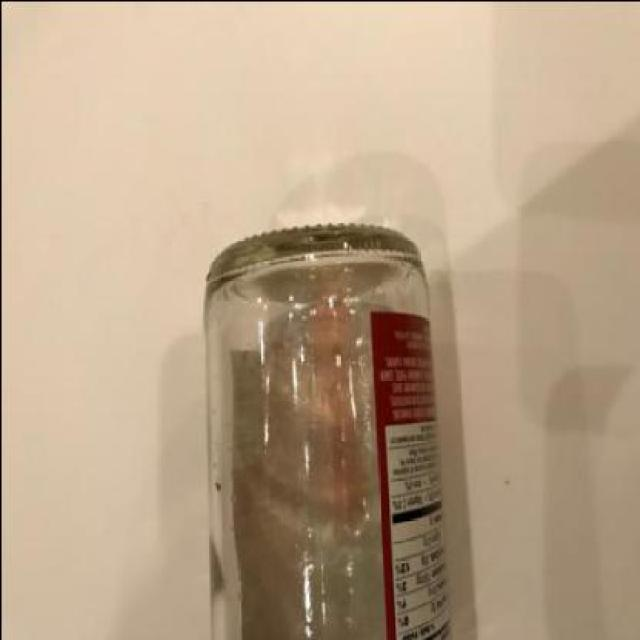glass: (205, 222, 448, 638)
